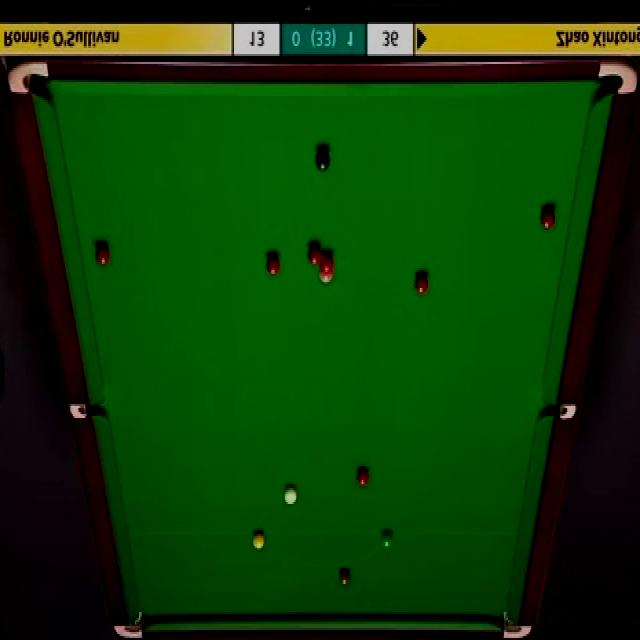black-ball: (314, 150, 331, 172)
brown-ball: (338, 569, 350, 587)
green-ball: (380, 530, 393, 551)
pink-ball: (318, 268, 335, 286)
red-ball: (539, 208, 556, 232), (94, 246, 111, 268), (265, 254, 281, 275), (414, 274, 429, 296), (308, 243, 322, 265), (356, 468, 370, 488), (318, 253, 334, 270)
white-ball: (283, 486, 298, 505)
yellow-ball: (252, 532, 265, 552)
